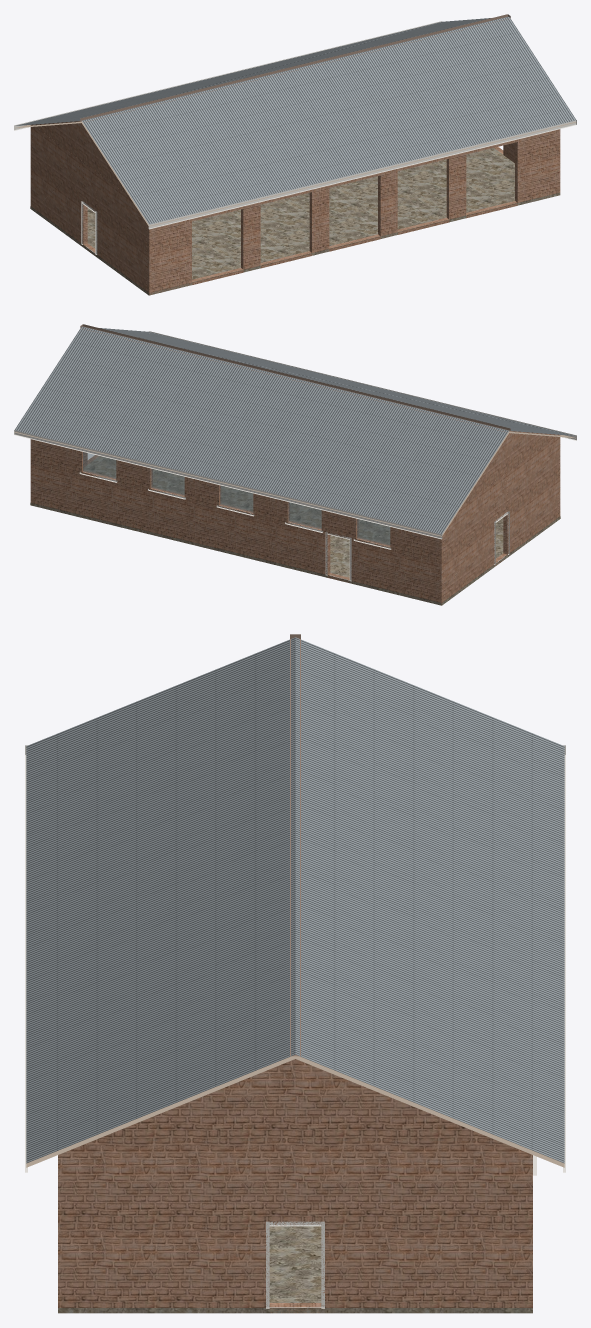
The model's file is fish-market.zfix-v5.lod1.glb.
3 renders of one model, top to bottom at view 1: azimuth 30°, elevation 25°; view 2: azimuth 150°, elevation 25°; view 3: azimuth 270°, elevation 25°, orthographic. The views are drawn at different scales.
Parts seen in each view (by area): view 1: fish-market; view 2: fish-market; view 3: fish-market.
Part boxes in pixels (x1=…): fish-market: x1=14, y1=14, x2=576, y2=295; fish-market: x1=14, y1=324, x2=576, y2=605; fish-market: x1=25, y1=634, x2=565, y2=1313.
Size of the model in its own units: 24.96 by 7.52 by 13.68.
Materials: 5 (3 with a texture image).
